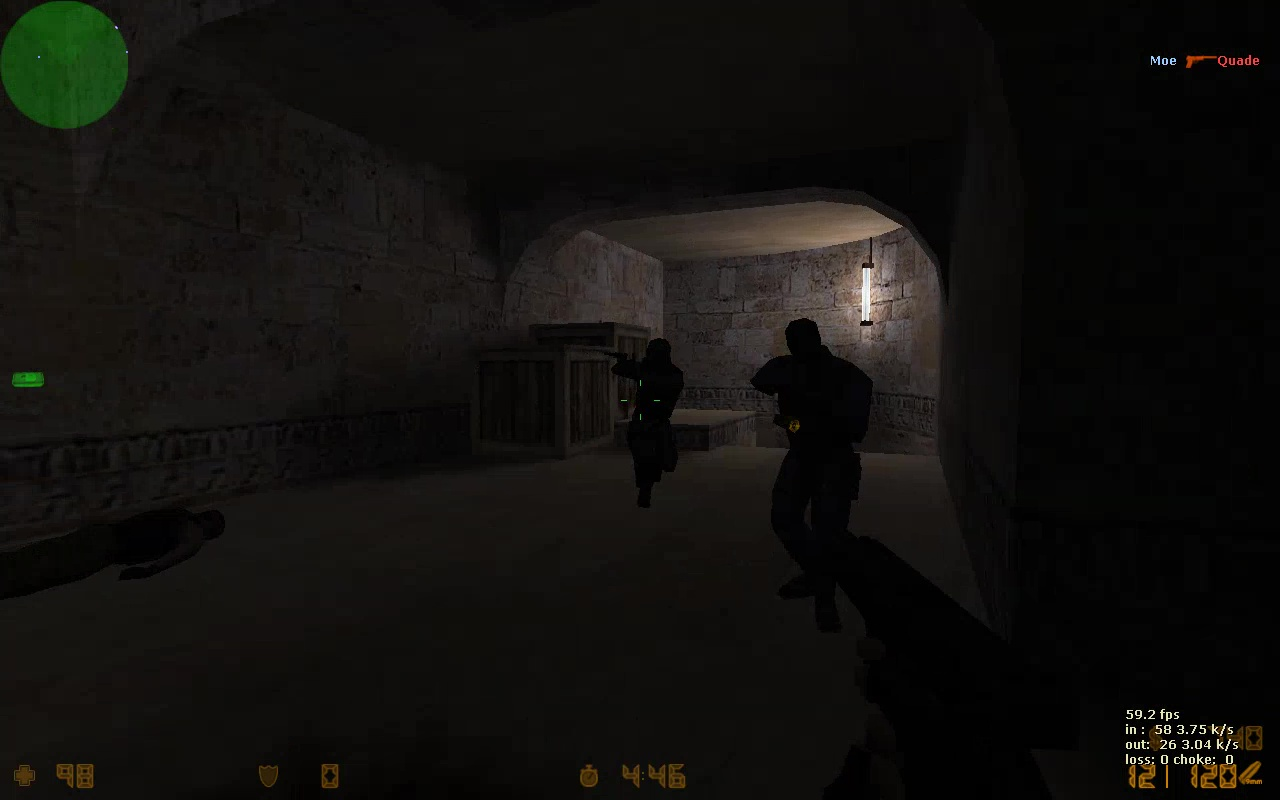ct: (751, 318, 863, 625), (613, 339, 678, 501)
dead: (1, 503, 219, 603)
